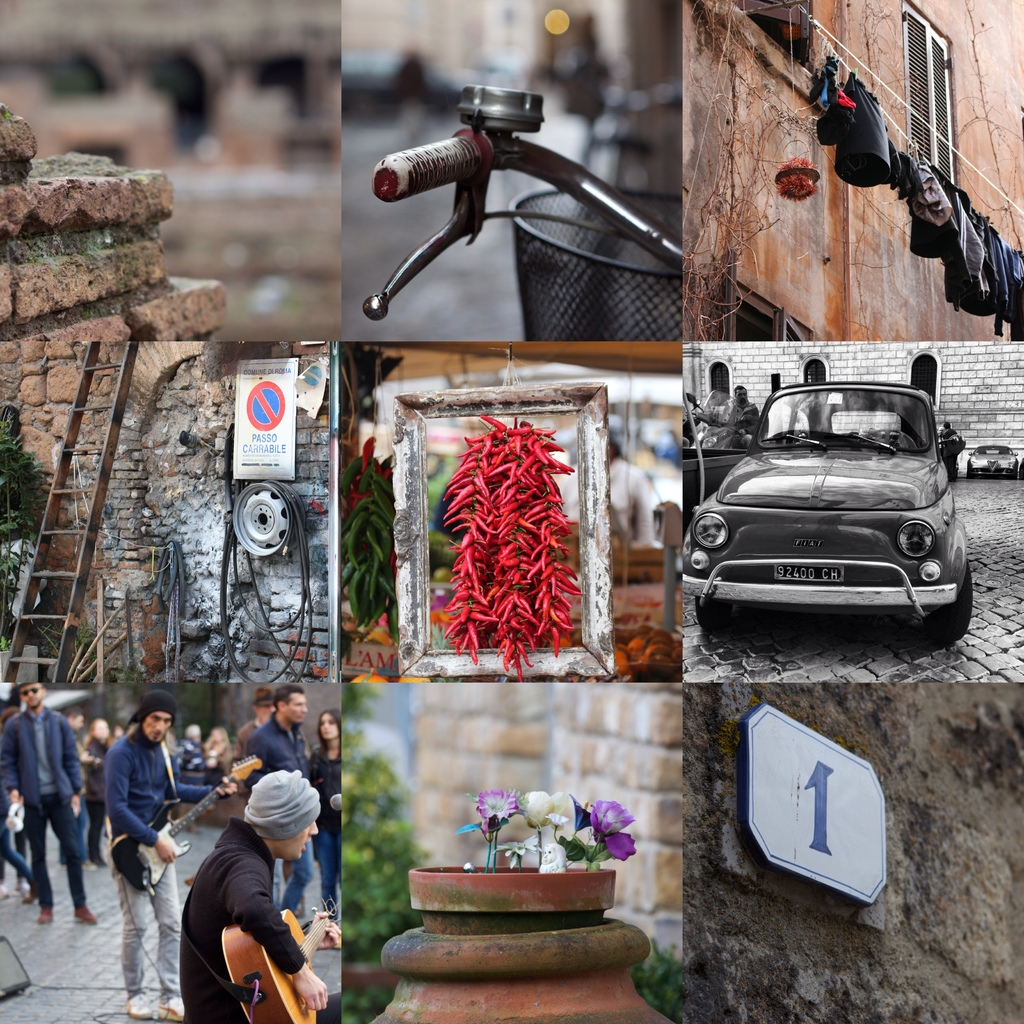Bike_away: (393, 126, 711, 425)
